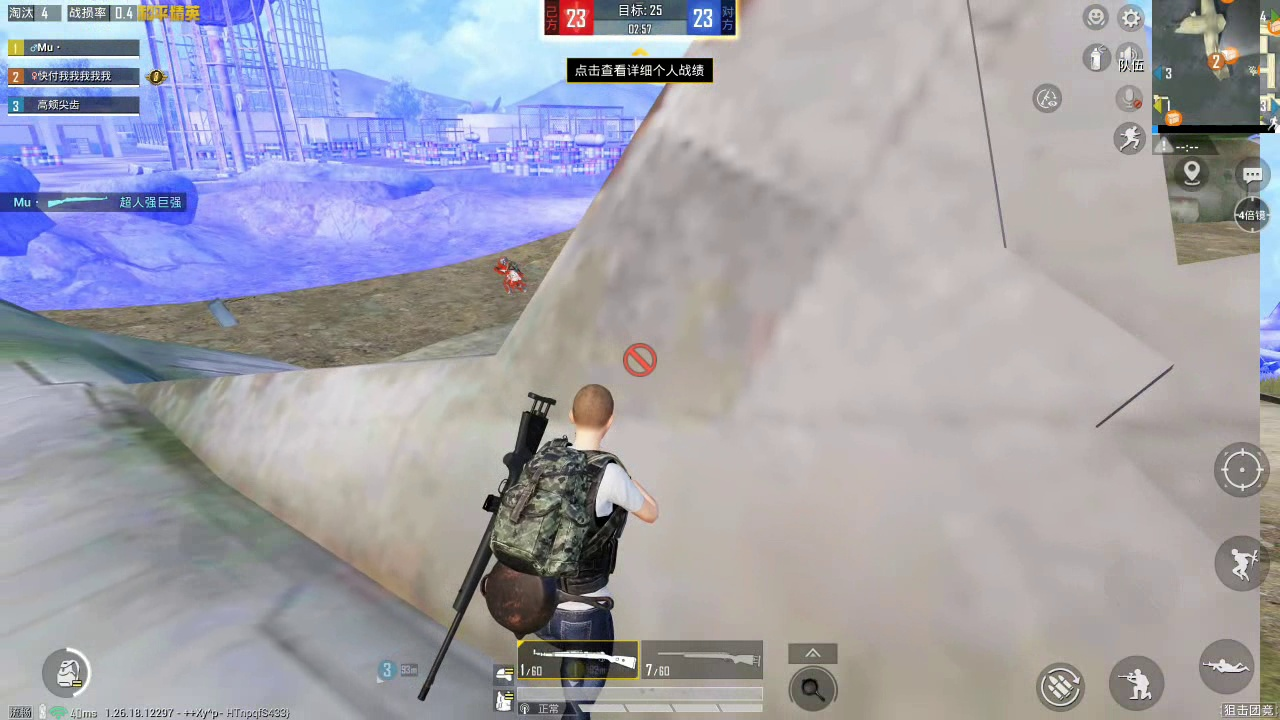enemy: (498, 255, 522, 293)
